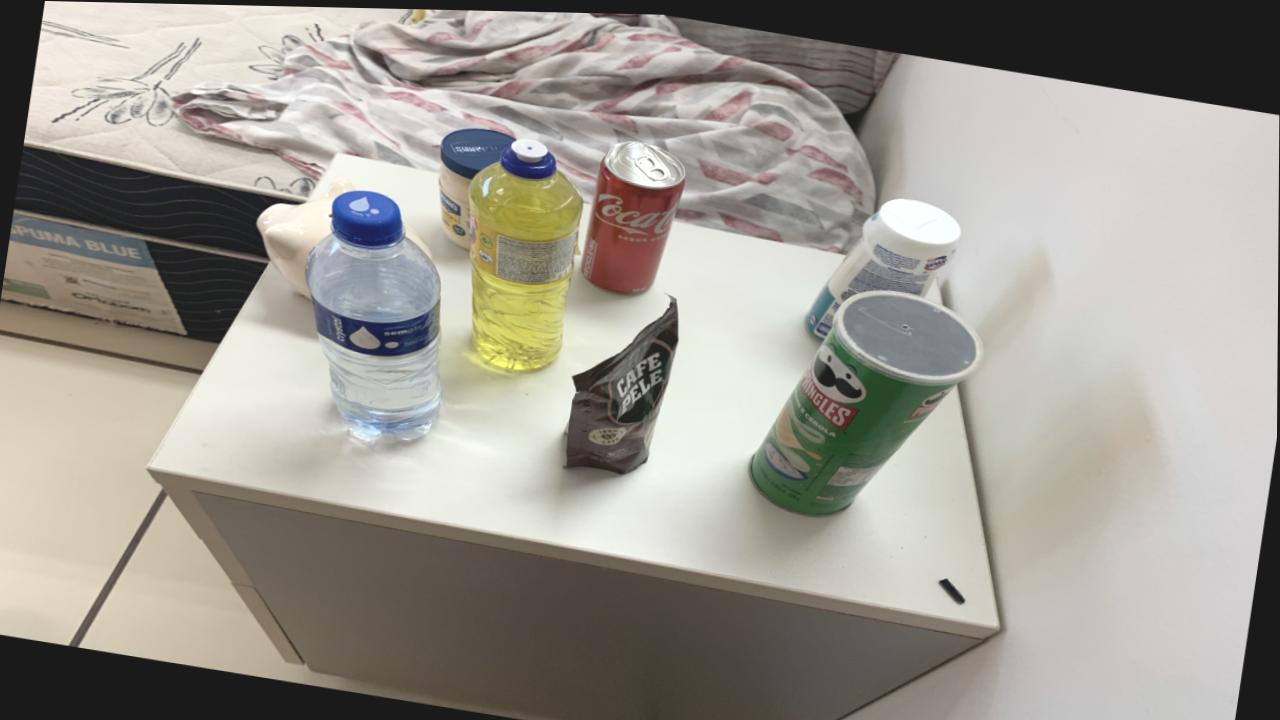Cleaner-Cleanup_Items: (805, 194, 961, 334)
Coffee-Pantry_Items: (565, 295, 679, 471), (580, 137, 686, 290)
Detergent-Cleanup_Items: (468, 135, 584, 368)
Mayonnaise-Pantry_Items: (438, 125, 513, 246)
Pig_Safe-Miscellaneous: (257, 176, 354, 296), (405, 225, 432, 255)
Pringles-Snacks: (748, 288, 981, 512)
Water_Bottle-Drinks: (305, 187, 442, 437)
